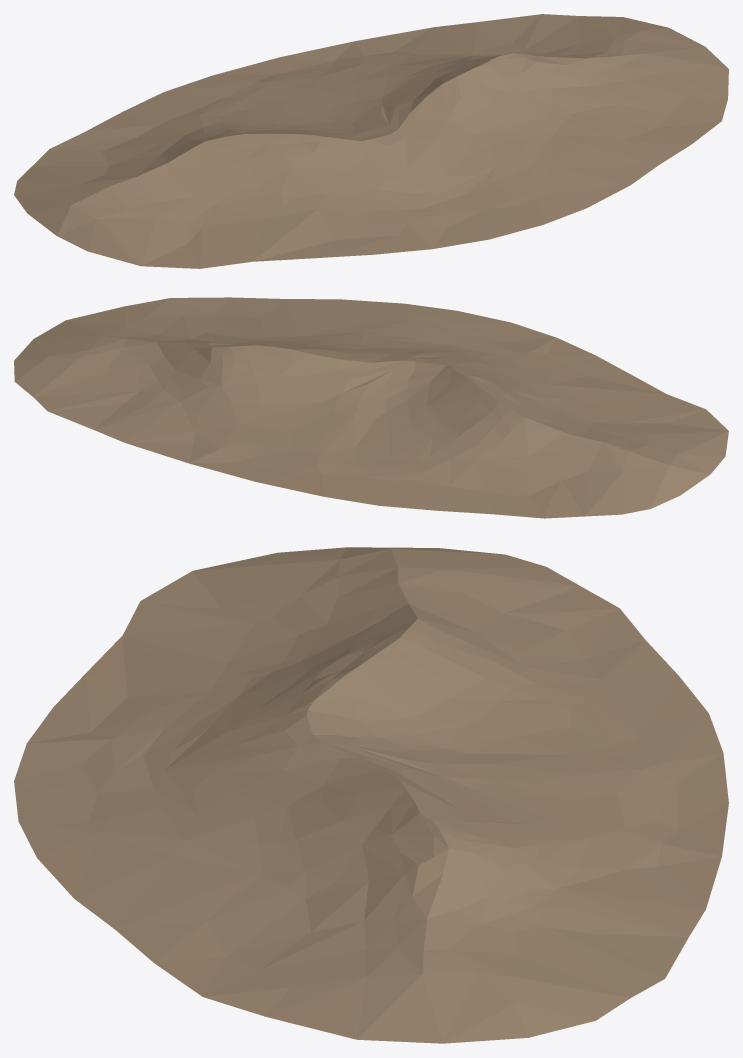
Rendered from SM_Env_SandDunes_03.glb.
3 renders of one model, top to bottom at view 1: azimuth 30°, elevation 25°; view 2: azimuth 150°, elevation 25°; view 3: azimuth 270°, elevation 25°, orthographic. The views are drawn at different scales.
Visible parts, largest first — view 1: SM_Env_SandDunes_03; view 2: SM_Env_SandDunes_03; view 3: SM_Env_SandDunes_03.
Part boxes in pixels (bbox=[...]): SM_Env_SandDunes_03: bbox=[14, 14, 728, 268]; SM_Env_SandDunes_03: bbox=[14, 297, 728, 518]; SM_Env_SandDunes_03: bbox=[14, 547, 728, 1043].
Bounding box in the file's own units: 116 × 7.21 × 70.58.
1 material, 1 textured.
